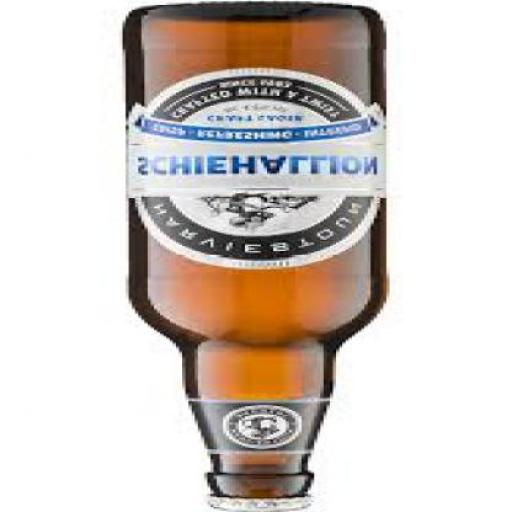glass: (129, 2, 383, 499)
metal: (203, 500, 307, 510)
